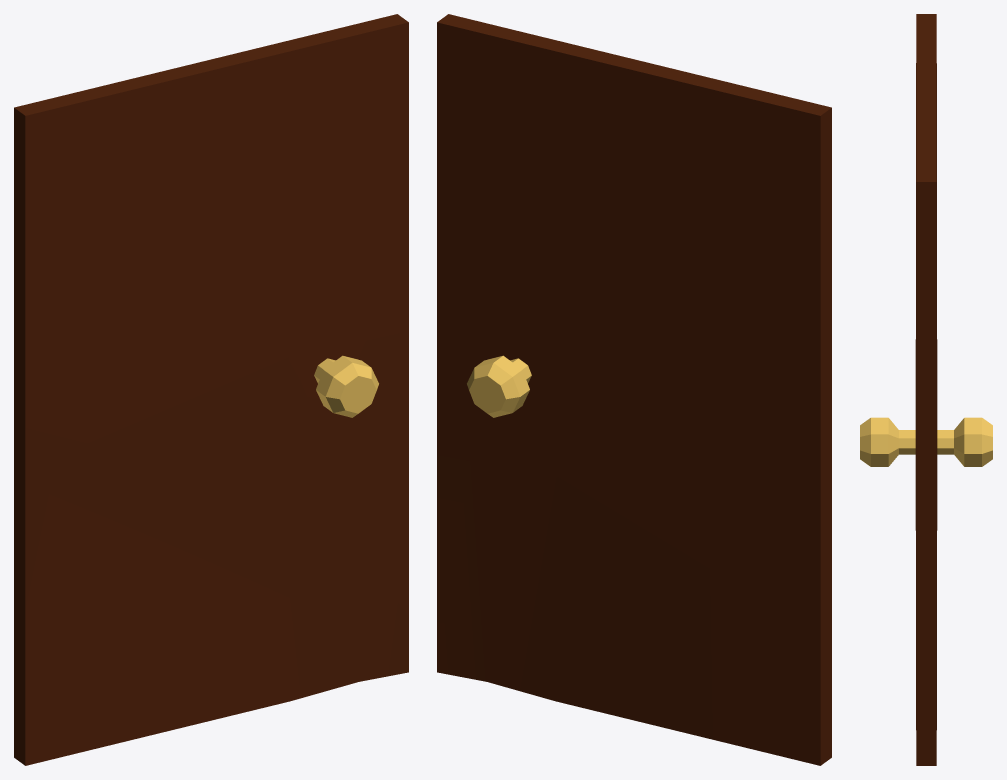
File: DOOR.fbx
3 renders of one model, left to right at view 1: azimuth 30°, elevation 25°; view 2: azimuth 150°, elevation 25°; view 3: azimuth 270°, elevation 25°, orthographic. The views are drawn at different scales.
Visible parts, largest first — view 1: Box001; view 2: Box001; view 3: Box001.
Part boxes in pixels (left/top/right/bottom): Box001: left=14, top=14, right=408, bottom=765; Box001: left=437, top=14, right=831, bottom=765; Box001: left=860, top=14, right=992, bottom=765.
Size of the model in its own units: 1 by 1.62 by 0.334.
